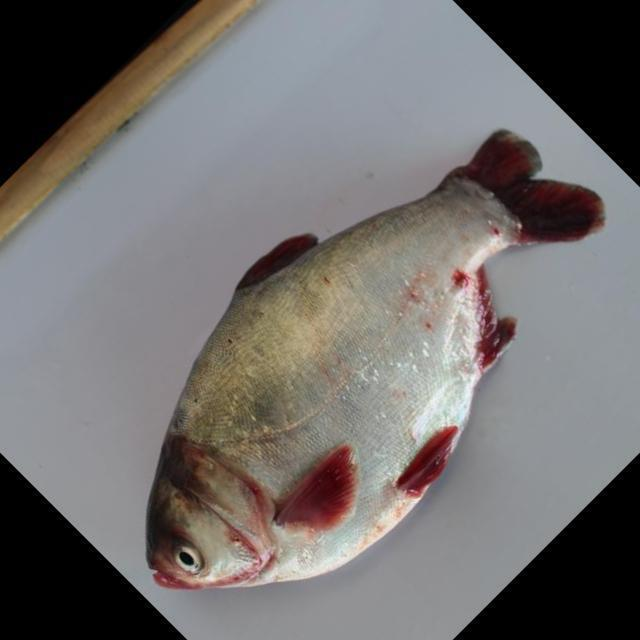Silver Carp: (141, 132, 605, 592)
